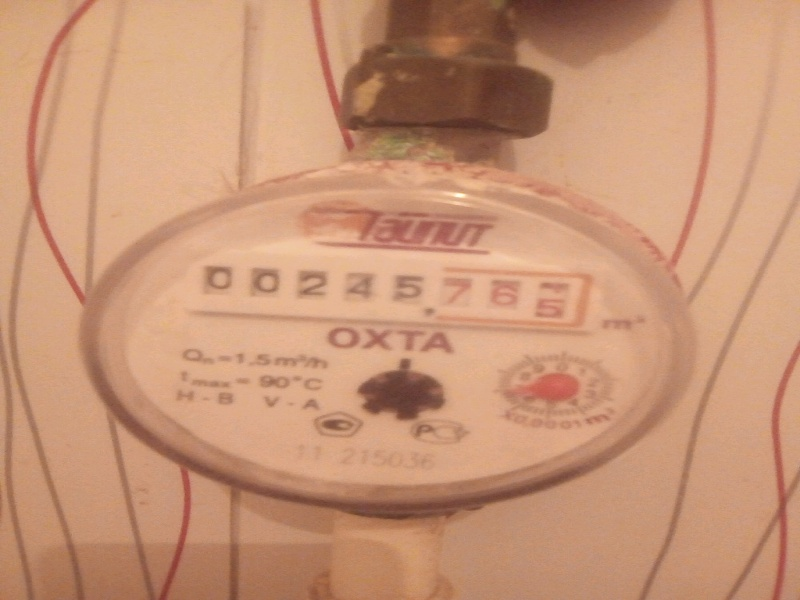meter: (197, 254, 578, 325)
